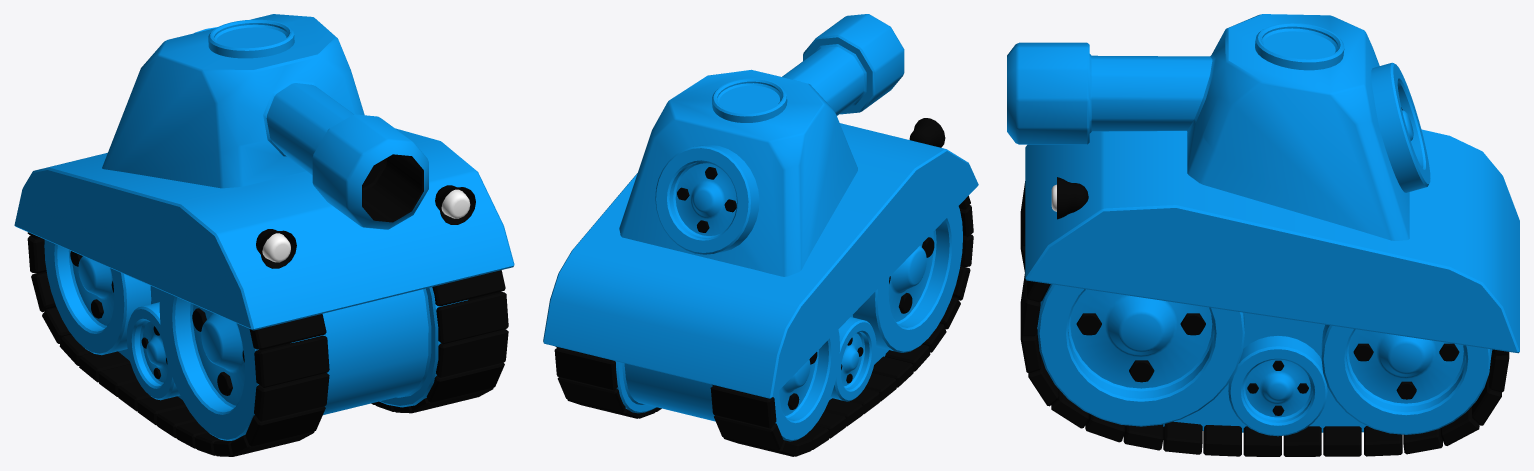
File: Marketing.fbx
3 renders of one model, left to right at view 1: azimuth 30°, elevation 25°; view 2: azimuth 150°, elevation 25°; view 3: azimuth 270°, elevation 25°, orthographic. The views are drawn at different scales.
Visible parts, largest first — view 1: Torreta.006; view 2: Torreta.006; view 3: Torreta.006.
Boxes of the visible parts, left/top/right/bottom form: Torreta.006: left=14, top=14, right=514, bottom=456; Torreta.006: left=543, top=14, right=978, bottom=456; Torreta.006: left=1007, top=14, right=1519, bottom=456.
Bounding box in the file's own units: 147 × 185 × 240.
